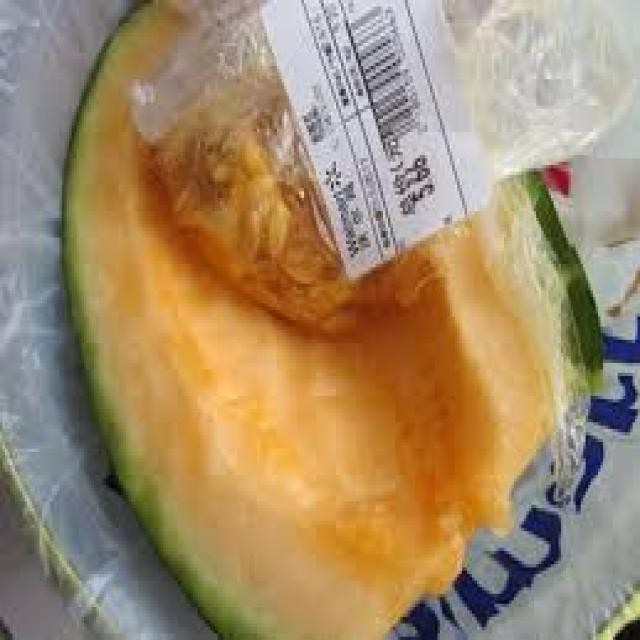organic waste: (59, 0, 600, 637)
